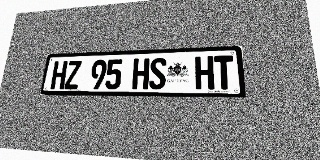5: (105, 59, 123, 89)
9: (89, 59, 107, 89)
H: (195, 56, 214, 89), (132, 58, 150, 89), (50, 61, 68, 89)
S: (149, 57, 167, 89)
T: (214, 55, 235, 90)
Z: (64, 60, 82, 89)
